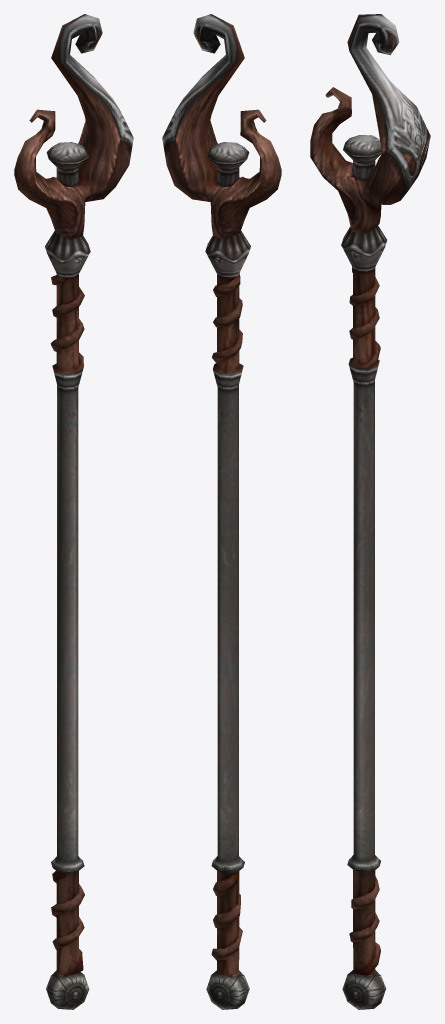
Rendered from Staff.FBX.
The picture shows the model from 3 angles, left to right: view 1: azimuth 30°, elevation 25°; view 2: azimuth 150°, elevation 25°; view 3: azimuth 330°, elevation 25°; orthographic projection.
Parts seen in each view (by area): view 1: Staff; view 2: Staff; view 3: Staff.
Boxes of the visible parts, bbox=[...] form: Staff: bbox=[14, 14, 133, 1009]; Staff: bbox=[162, 14, 281, 1009]; Staff: bbox=[310, 14, 430, 1009].
Bounding box in the file's own units: 26.01 × 223 × 14.64.
